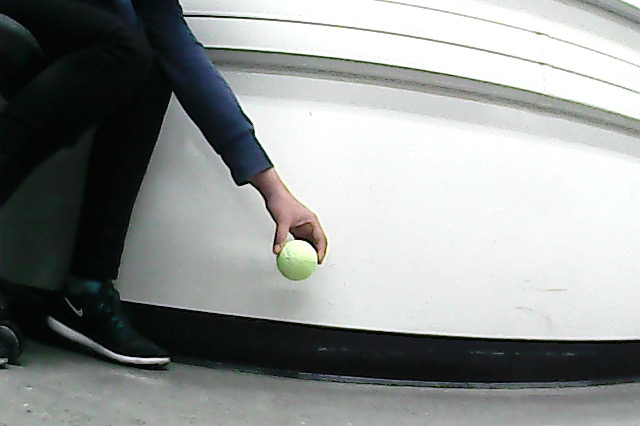ball: (277, 240, 318, 282)
